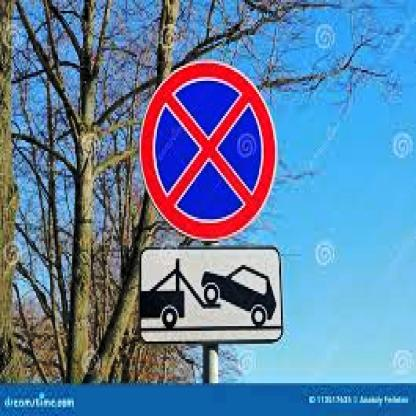No stopping: (143, 61, 277, 237)
